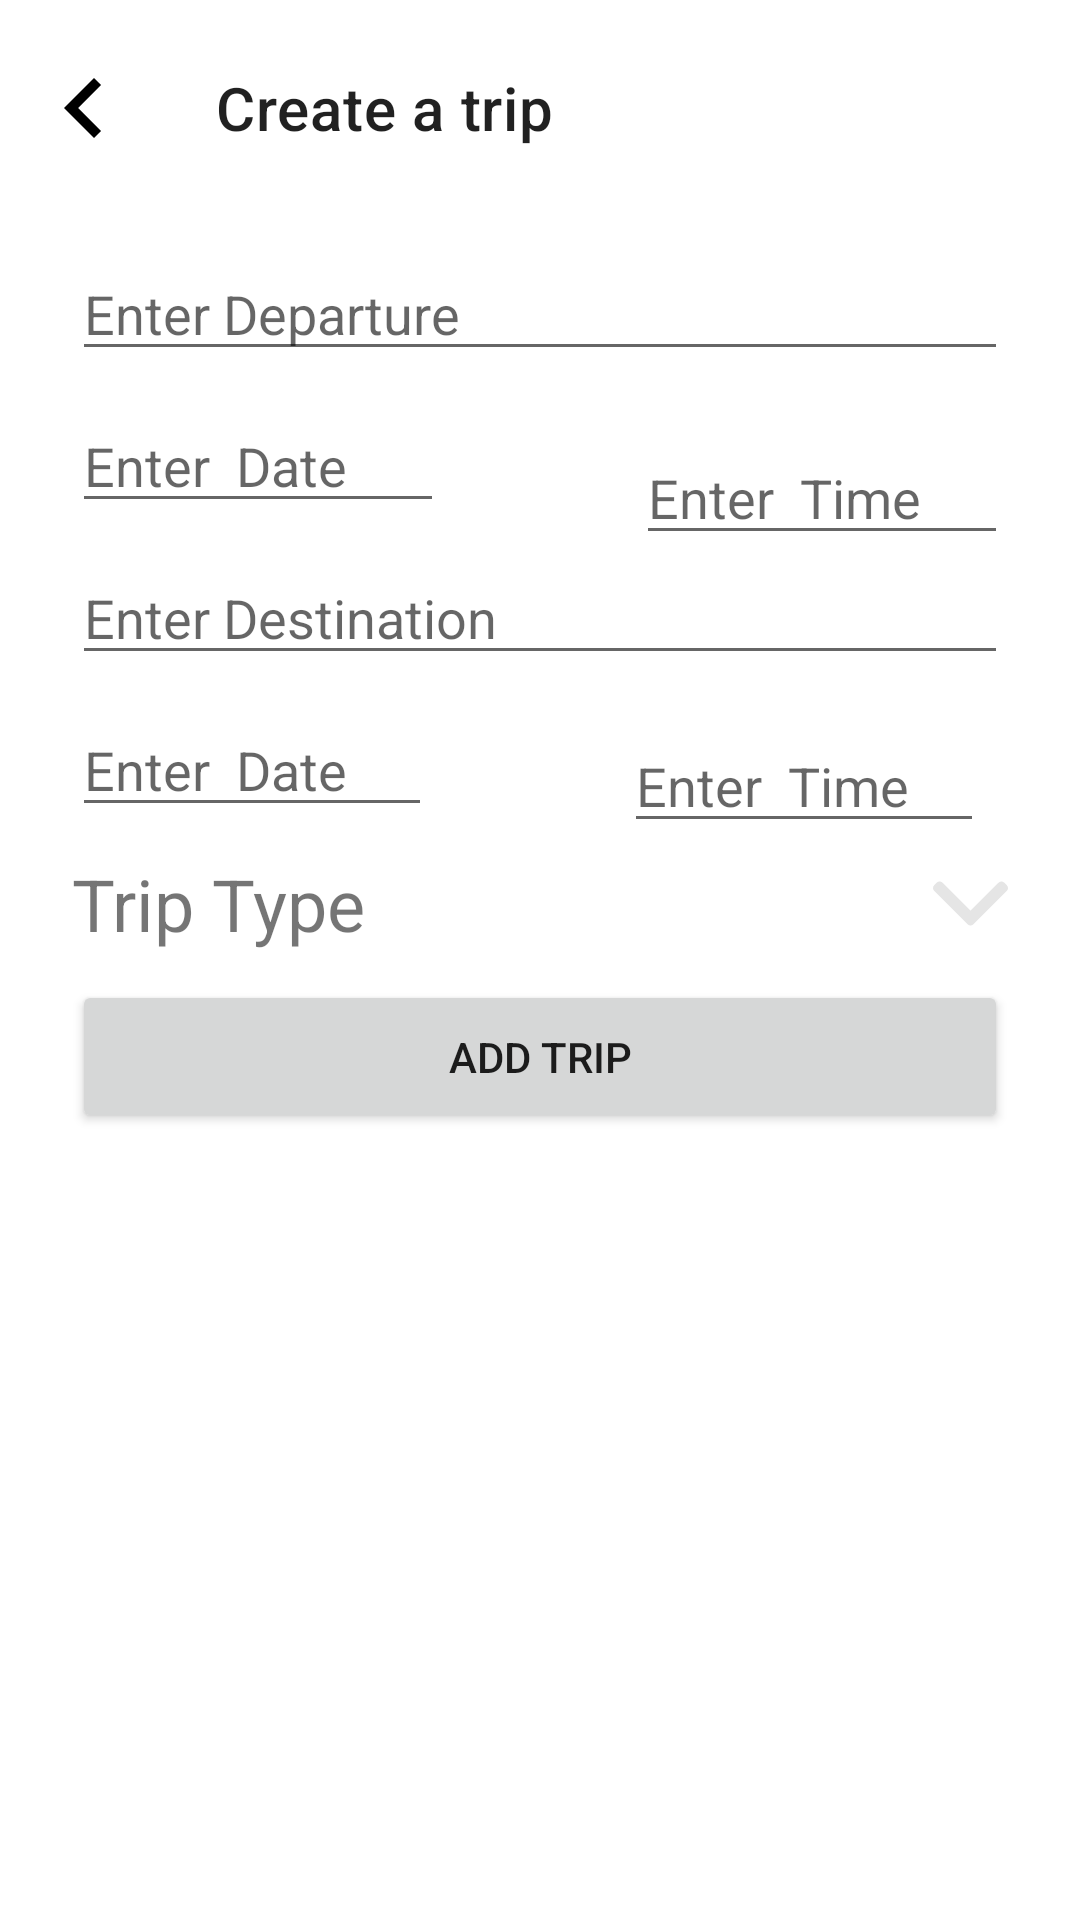

Screen size 1080w x 1920h. Icon name, then its box in pixels as (x1, y1, x2, y2):
arrow down: (933, 882, 1008, 925)
